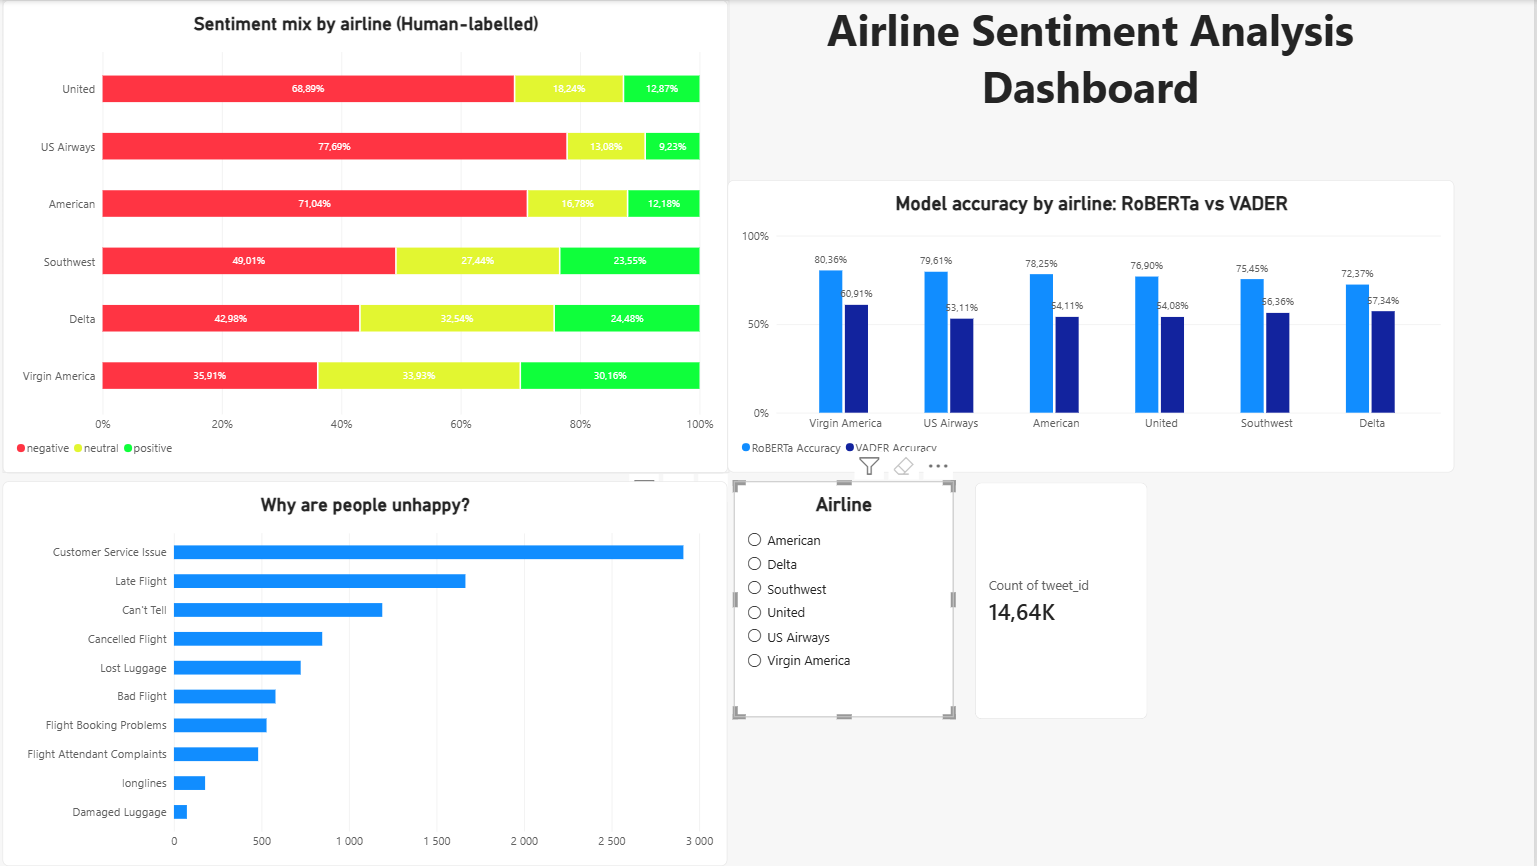

This screenshot's page, from the dashboard's own definition file:
{"tool":"powerbi","page":{"name":"Page 1","canvas":[1920,1080],"ordinal":0},"visuals":[{"type":"hundredPercentStackedBarChart","title":"Sentiment mix by airline (Human-labelled)","fields":{"Category":["dashboard_data.airline"],"Series":["dashboard_data.airline_sentiment"],"Y":["CountNonNull(dashboard_data.tweet_id)"]},"box":[10,0,904.4,590],"z":0},{"type":"barChart","title":"Why are people unhappy?","fields":{"Category":["dashboard_data.negativereason"],"Y":["CountNonNull(dashboard_data.tweet_id)"]},"box":[10,600,904,480],"z":1000},{"type":"listSlicer","title":"Airline","fields":{"Values":["dashboard_data.airline"]},"box":[921.7,600,273.3,295],"z":2000},{"type":"clusteredColumnChart","title":"Model accuracy by airline: RoBERTa vs VADER","fields":{"Category":["dashboard_data.airline"],"Y":["dashboard_data.RoBERTa Accuracy","dashboard_data.VADER Accuracy"]},"box":[913.3,225,906.7,365],"z":3000},{"type":"cardVisual","fields":{"Data":["CountNonNull(dashboard_data.tweet_id)"]},"box":[1221.7,601.7,215,295],"z":4000},{"type":"textbox","box":[914,0,905.2,193.6],"z":4001}]}

Visuals, with their boxes in screenshot pixels (x1, y1, x2, y2), scaled from the page's 1920x1080 canvas onto the 1537x866 screenshot:
"Sentiment mix by airline (Human-labelled)" hundredPercentStackedBarChart: {"x1": 8, "y1": 0, "x2": 732, "y2": 473}
"Why are people unhappy?" barChart: {"x1": 8, "y1": 481, "x2": 732, "y2": 865}
"Airline" listSlicer: {"x1": 738, "y1": 481, "x2": 957, "y2": 718}
"Model accuracy by airline: RoBERTa vs VADER" clusteredColumnChart: {"x1": 731, "y1": 180, "x2": 1457, "y2": 473}
cardVisual - CountNonNull(dashboard_data.tweet_id): {"x1": 978, "y1": 482, "x2": 1150, "y2": 719}
textbox: {"x1": 732, "y1": 0, "x2": 1456, "y2": 155}
